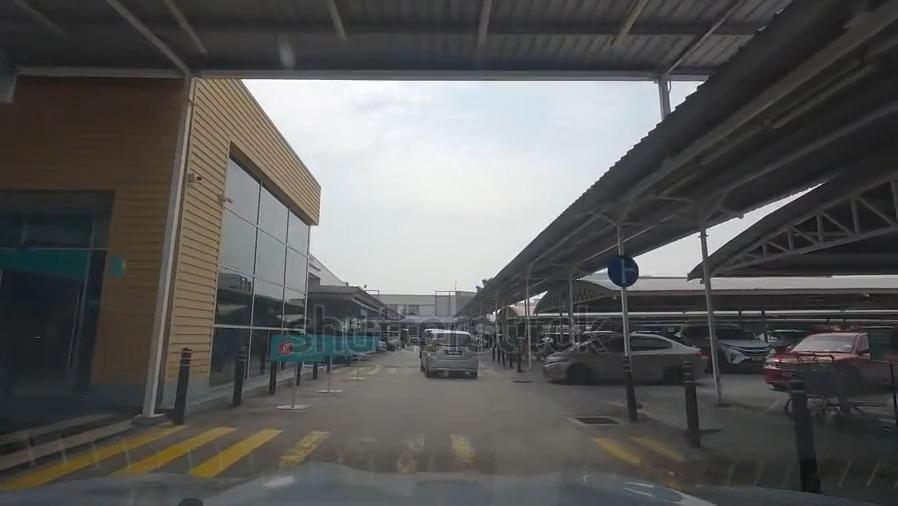car: (546, 339, 702, 385), (761, 340, 895, 382), (687, 326, 774, 369), (419, 330, 477, 373)
manhole: (574, 412, 616, 427), (510, 376, 534, 385)
pedestrian: (4, 434, 727, 491), (328, 367, 530, 375)
